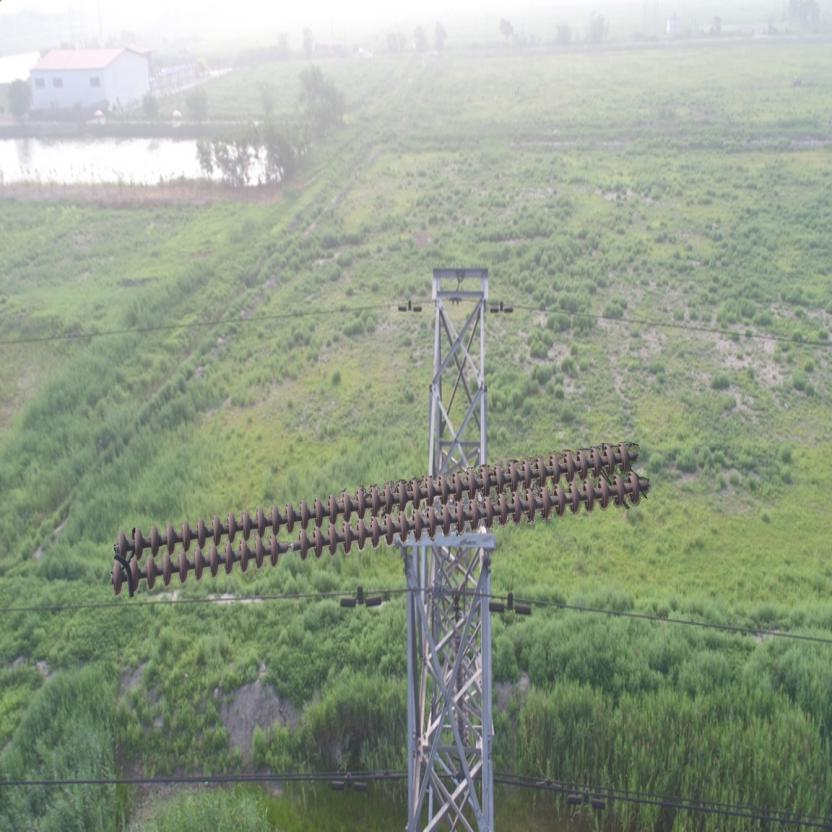defect: (264, 523, 312, 567)
